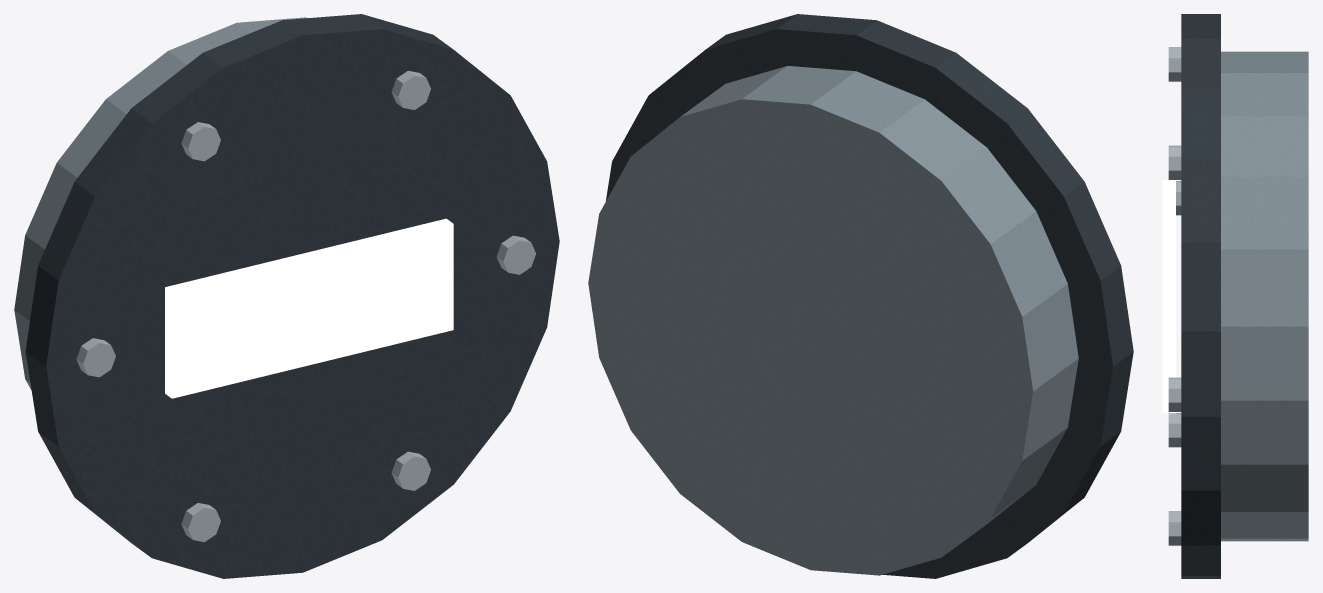
File: PZ_Inset_Runway_White.glb
The picture shows the model from 3 angles, left to right: view 1: azimuth 30°, elevation 25°; view 2: azimuth 150°, elevation 25°; view 3: azimuth 270°, elevation 25°; orthographic projection. The views are drawn at different scales.
Parts seen in each view (by area): view 1: PZ_Inset_Runway_White__FlushCoverRing, PZ_Inset_Runway_White__WhiteOptic, PZ_Inset_Runway_White__EmbeddedBody, PZ_Inset_Runway_White; view 2: PZ_Inset_Runway_White__EmbeddedBody, PZ_Inset_Runway_White__FlushCoverRing; view 3: PZ_Inset_Runway_White__EmbeddedBody, PZ_Inset_Runway_White__FlushCoverRing, PZ_Inset_Runway_White__WhiteOptic, PZ_Inset_Runway_White.
Boxes of the visible parts, x1,y1,x2,y2 form: PZ_Inset_Runway_White__FlushCoverRing: (25,14,559,578); PZ_Inset_Runway_White__WhiteOptic: (165,218,453,398); PZ_Inset_Runway_White__EmbeddedBody: (14,17,307,390); PZ_Inset_Runway_White: (76,71,536,542); PZ_Inset_Runway_White__EmbeddedBody: (588,66,1078,575); PZ_Inset_Runway_White__FlushCoverRing: (606,14,1133,578); PZ_Inset_Runway_White__EmbeddedBody: (1221,51,1308,541); PZ_Inset_Runway_White__FlushCoverRing: (1181,14,1220,578); PZ_Inset_Runway_White__WhiteOptic: (1162,179,1175,413); PZ_Inset_Runway_White: (1168,47,1181,545).
Size of the model in its own units: 0.374 by 0.374 by 0.096.
Materials: 2 (2 with a texture image).
